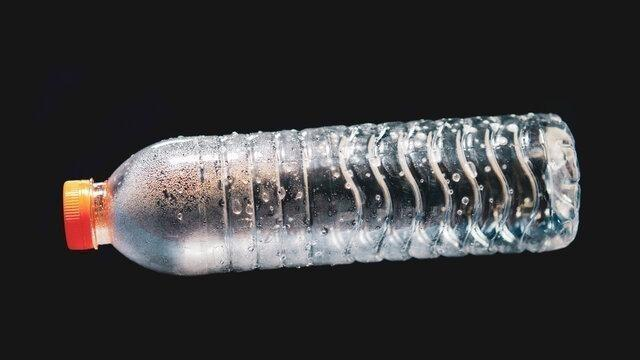bottle-plastic: (53, 106, 588, 277)
